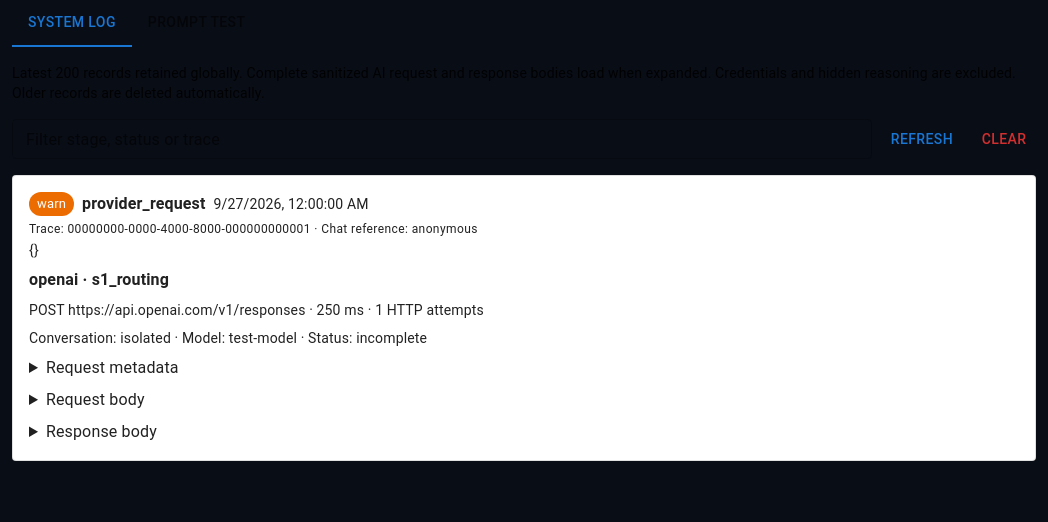
Scenario: shows existing request metadata and marks old truncated previews
Expected: the text "openai · s1_routing" is shown, [29, 270, 169, 289]
Expected: the text "Conversation: isolated" is shown, [29, 330, 427, 346]
Click the heading "Request body".
click(95, 400)  # box [46, 390, 145, 409]
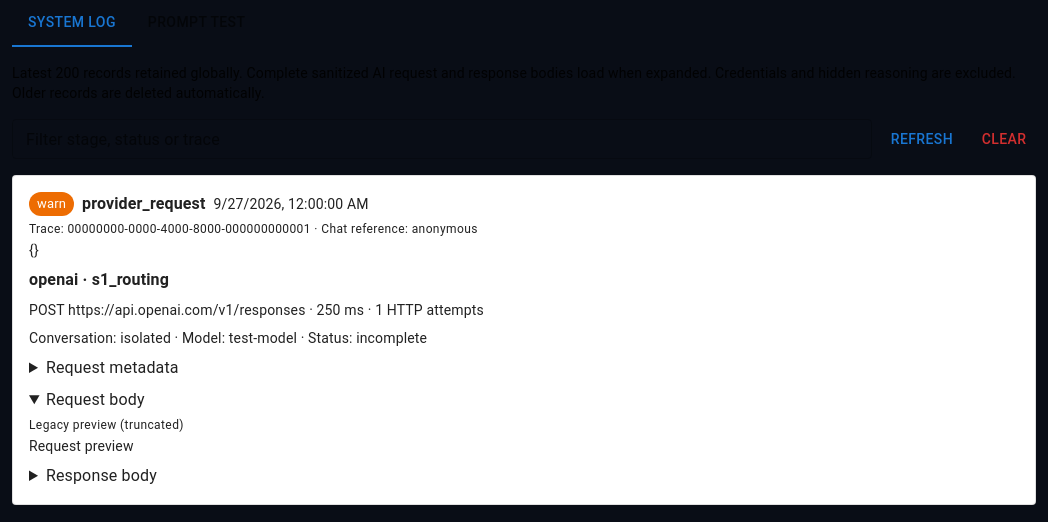
Expected: the text "Legacy preview (truncated)" is shown, [29, 418, 184, 432]
Expected: the text "Request preview" is shown, [29, 438, 134, 454]
